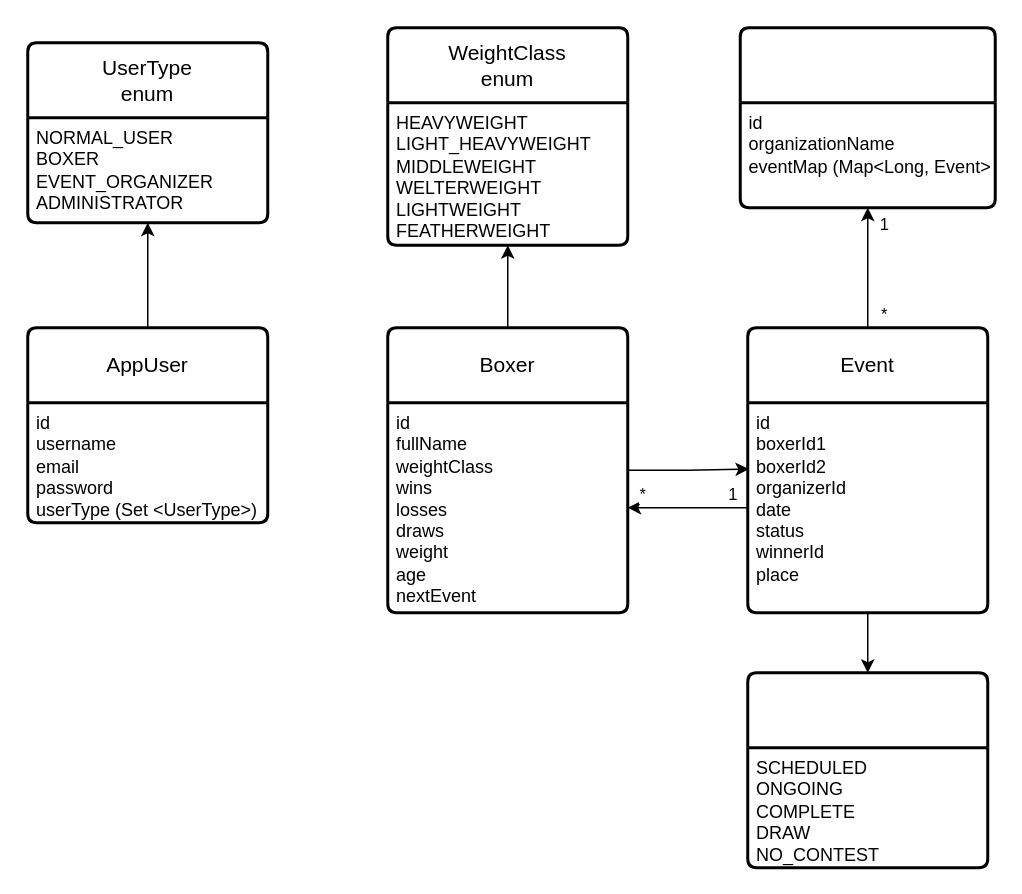
This 1022x894 diagram has some shape labels left out. The shapes that lost their labels are listed below. From the top down, each one's box as (x1, y1, x2, y2) in pixels, then its label:
(738, 26, 996, 208): EventOrganizer
(746, 670, 988, 868): EventStatus enum
